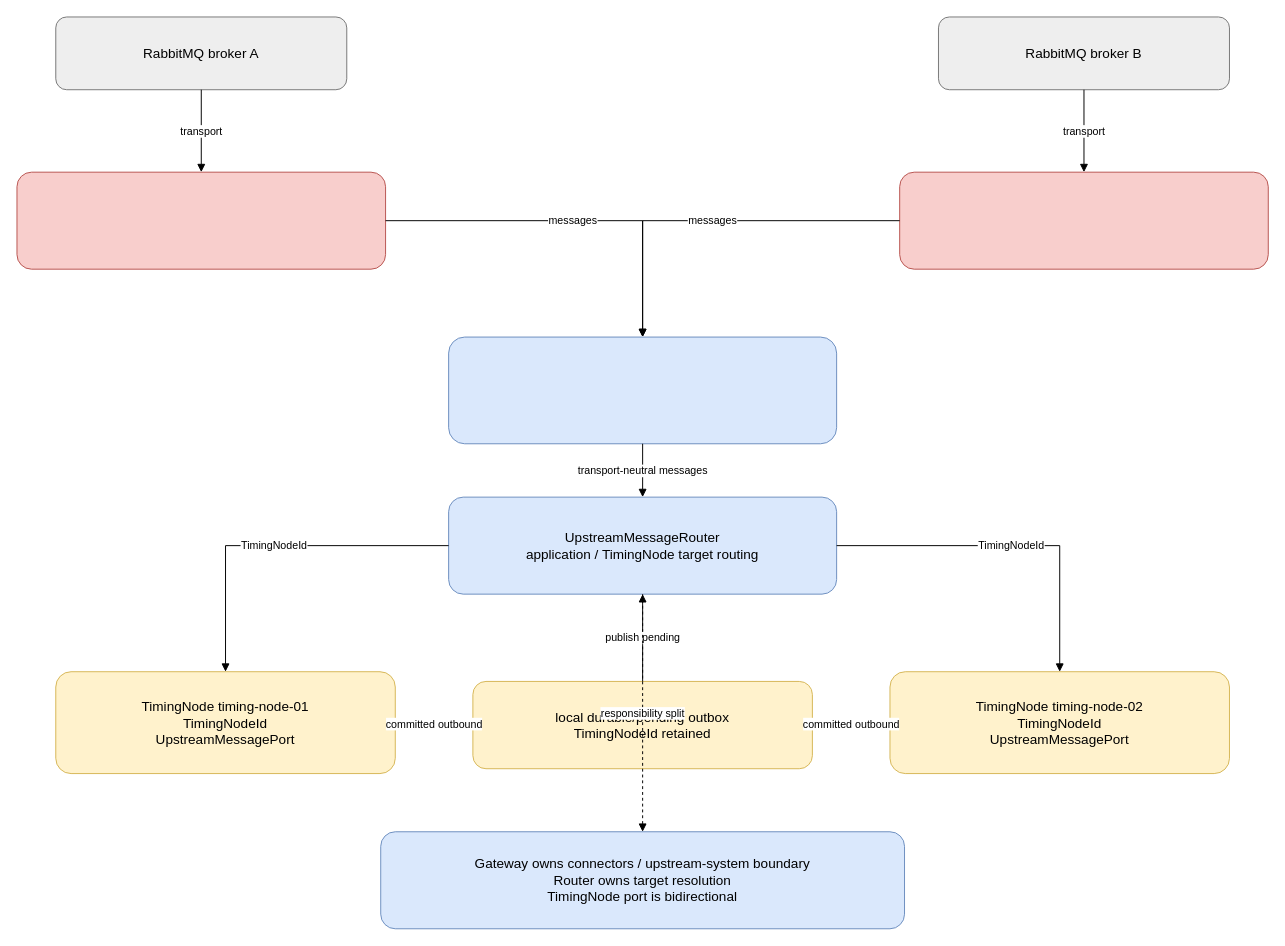
Some shapes in this 1285 by 946 pixel diagram are drawn without their labels. The shapes that lost their labels are listed below. From the top down, each one's centre as x and y in pixels, then its label:
At pixel 201 220: "RabbitMqConnector connector-01 owns connection/channels internally".
At pixel 1083 220: "RabbitMqConnector connector-02 owns connection/channels internally".
At pixel 642 390: "UpstreamGateway external upstream-system boundary uses 1..N connectors".
